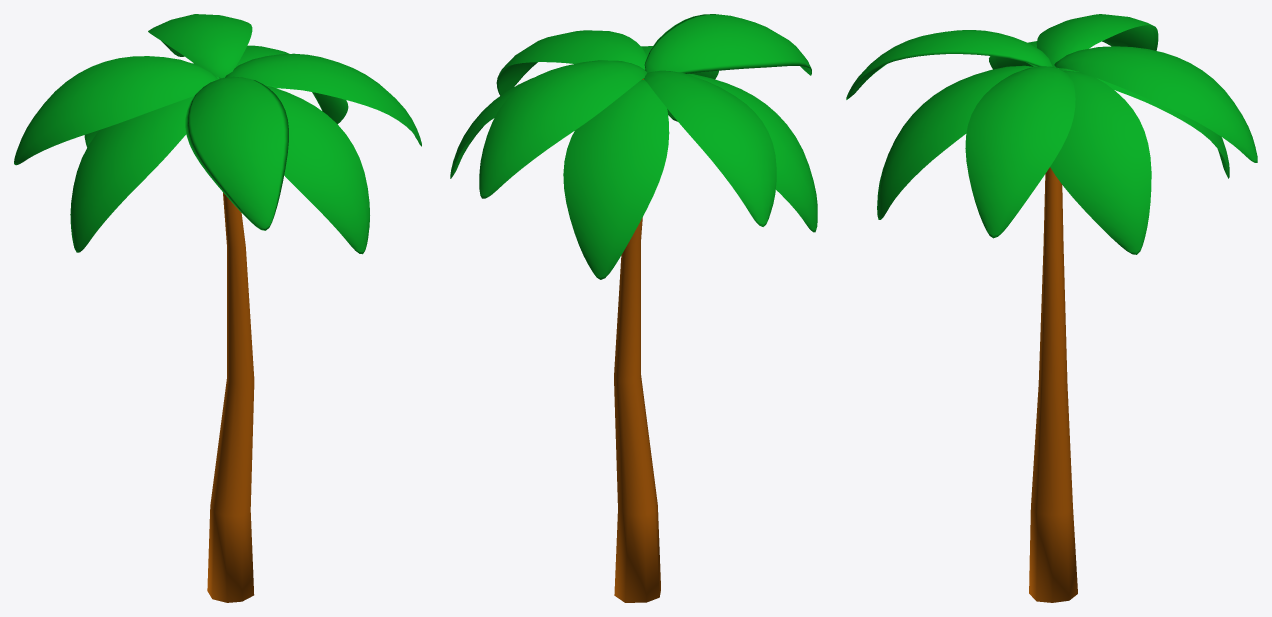
Rendered from PalmTree1.fbx.
The picture shows the model from 3 angles, left to right: view 1: azimuth 30°, elevation 25°; view 2: azimuth 150°, elevation 25°; view 3: azimuth 270°, elevation 25°; orthographic projection.
Visible parts, largest first — view 1: PalmTree1; view 2: PalmTree1; view 3: PalmTree1.
Part boxes in pixels (left/top/right/bottom): PalmTree1: left=14, top=14, right=421, bottom=602; PalmTree1: left=450, top=14, right=817, bottom=602; PalmTree1: left=846, top=14, right=1257, bottom=602.
Size of the model in its own units: 7.96 by 8.39 by 12.27.
